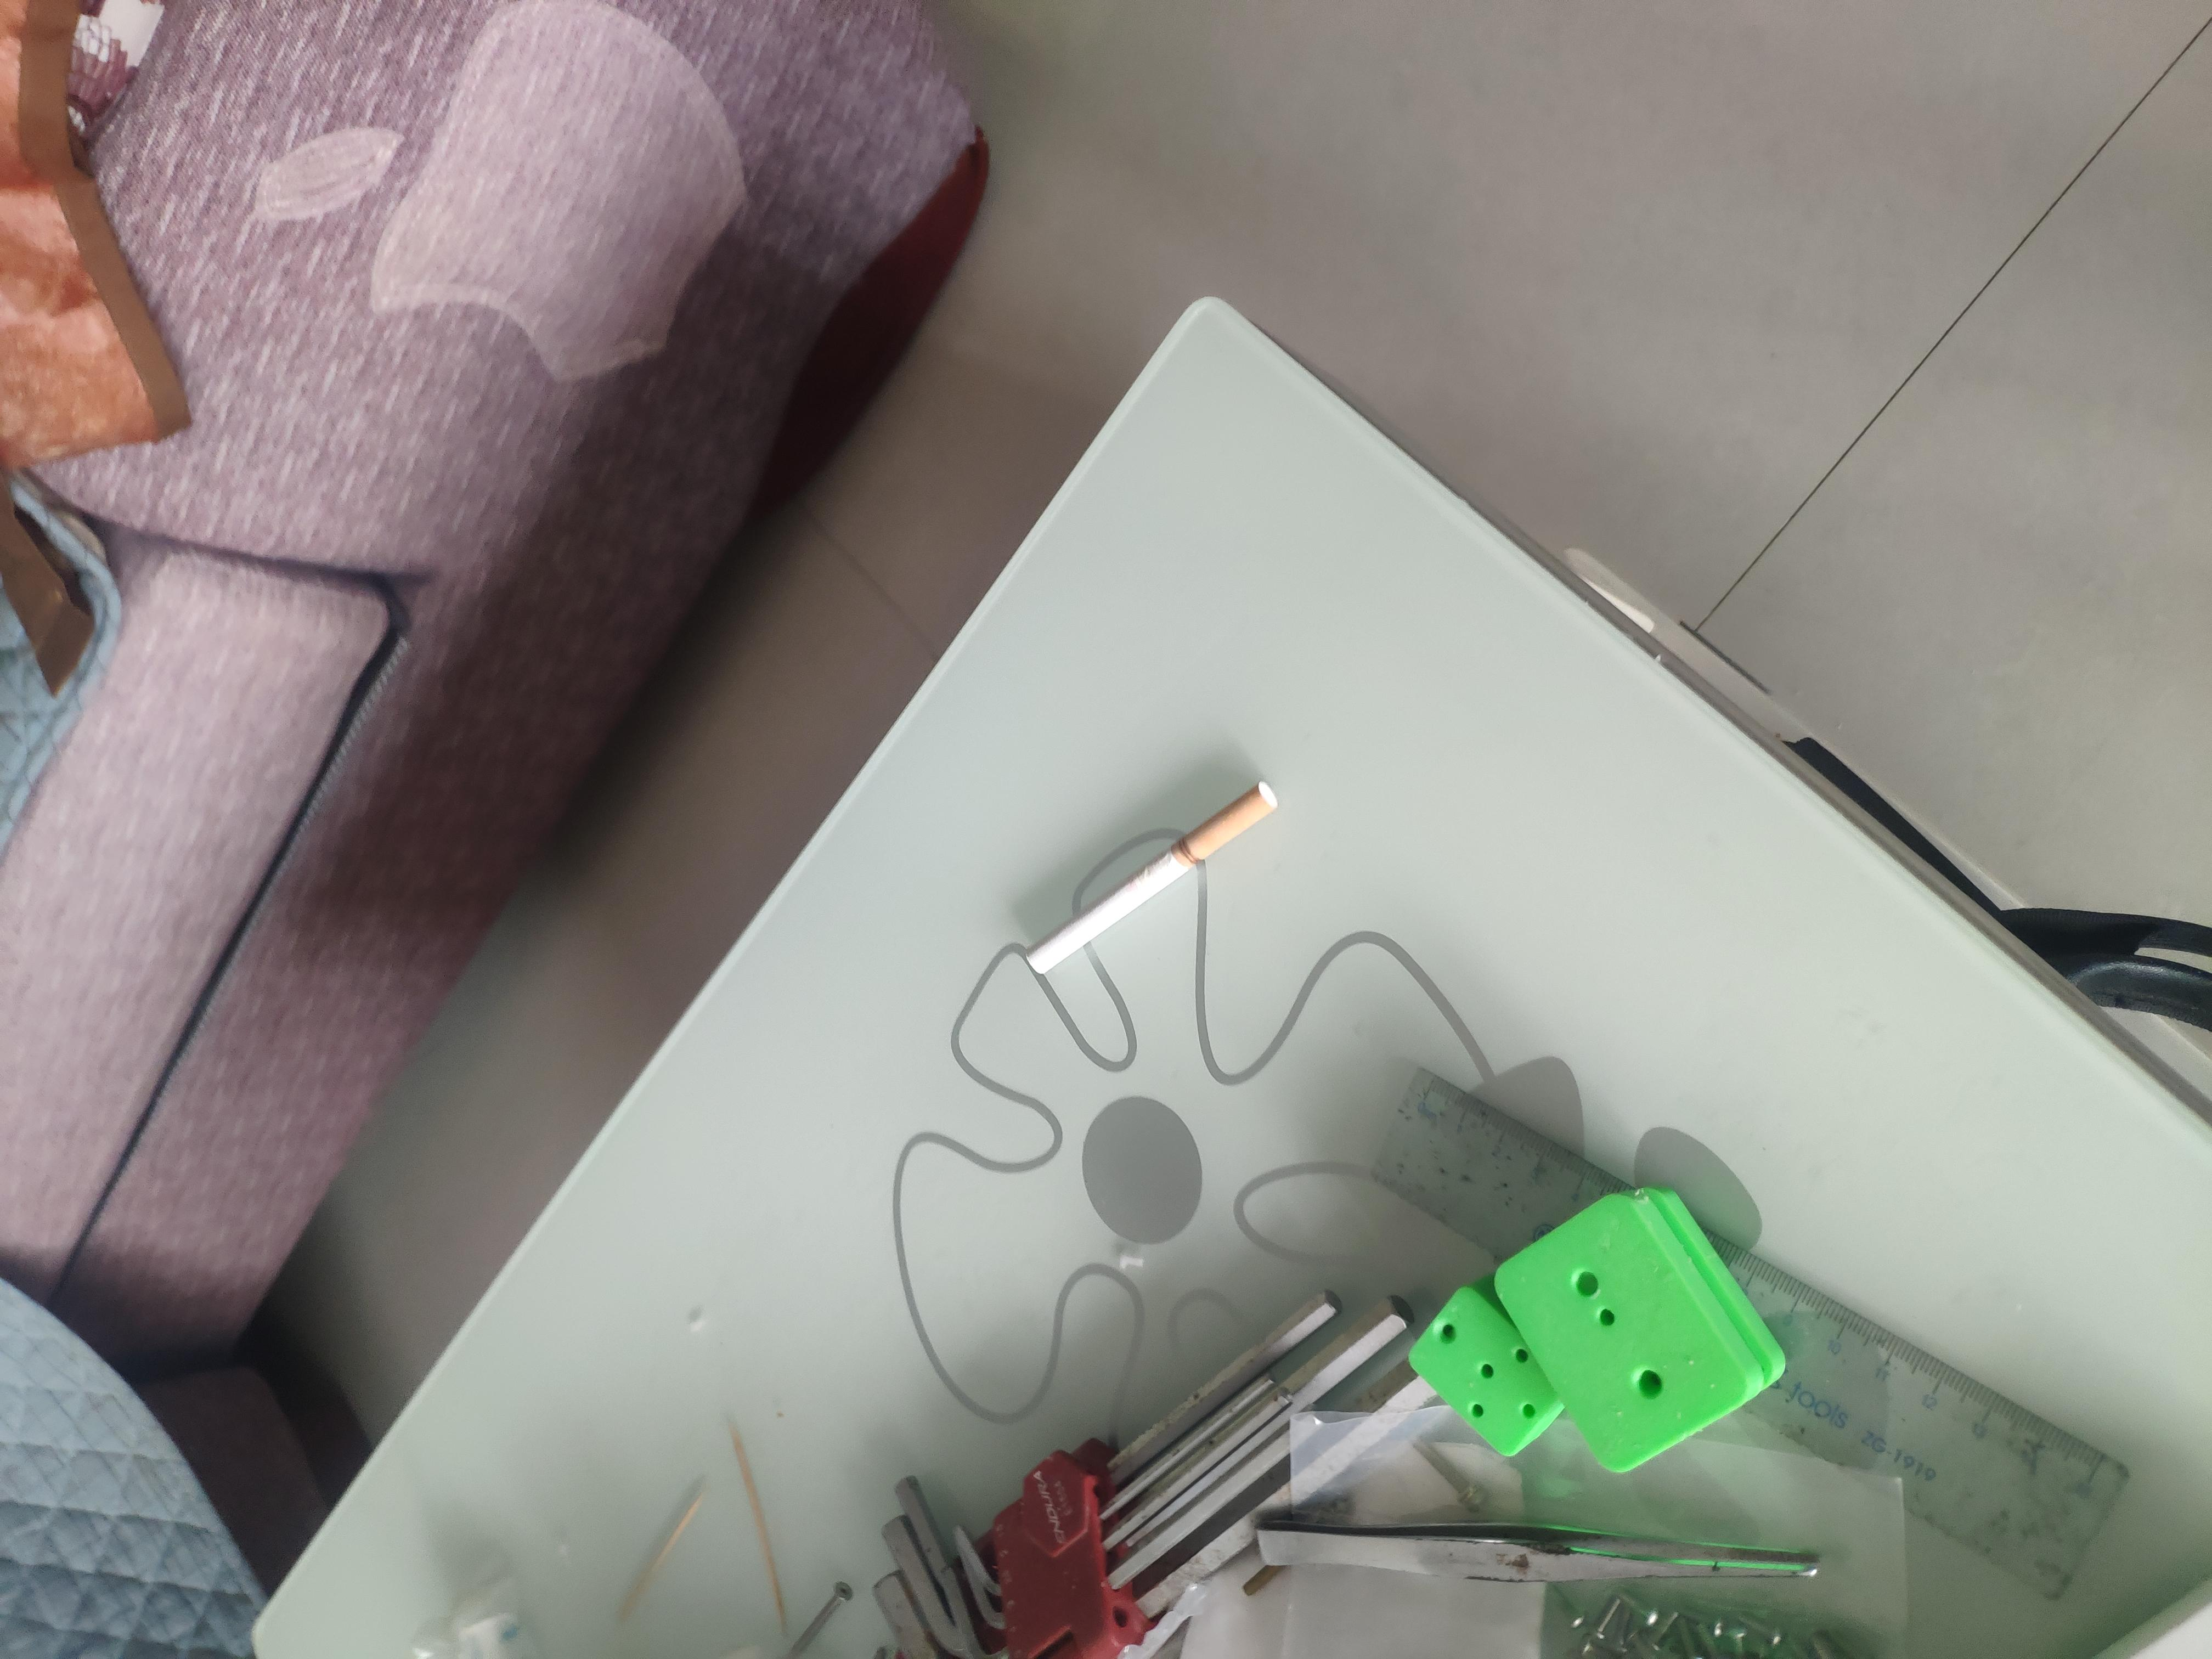smoke: (911, 767, 1179, 962)
